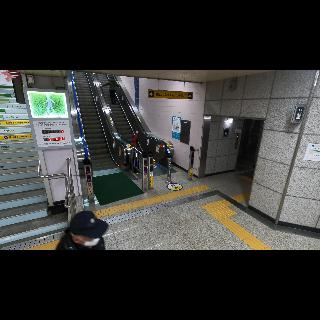anomaly: (126, 132, 142, 154)
normal: (54, 208, 110, 250), (98, 76, 122, 106)
